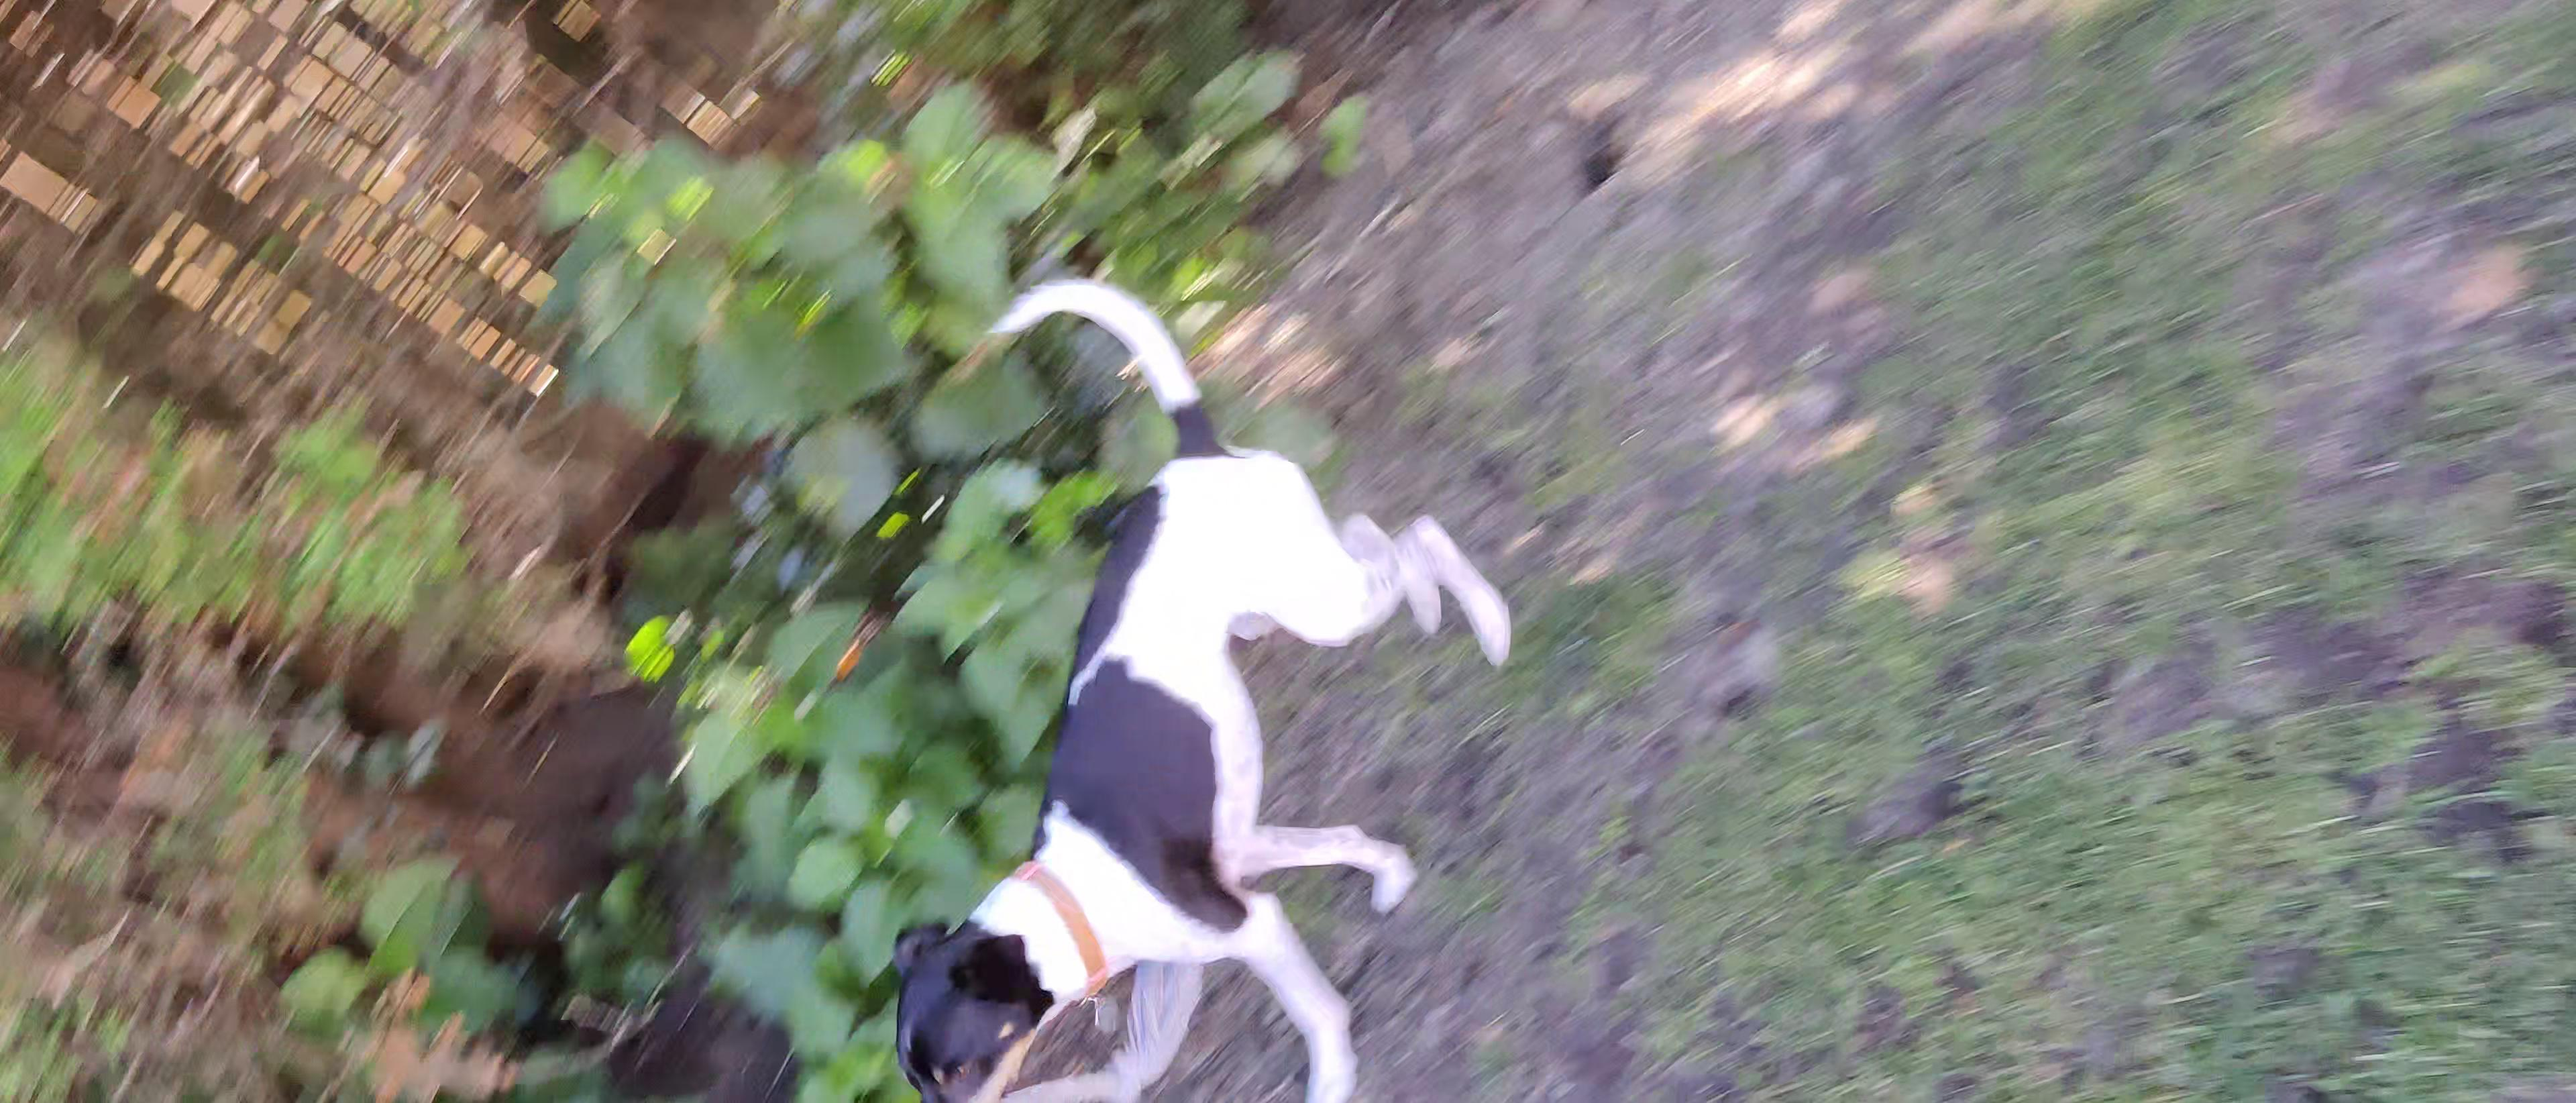Dog: (843, 243, 1533, 1103)
